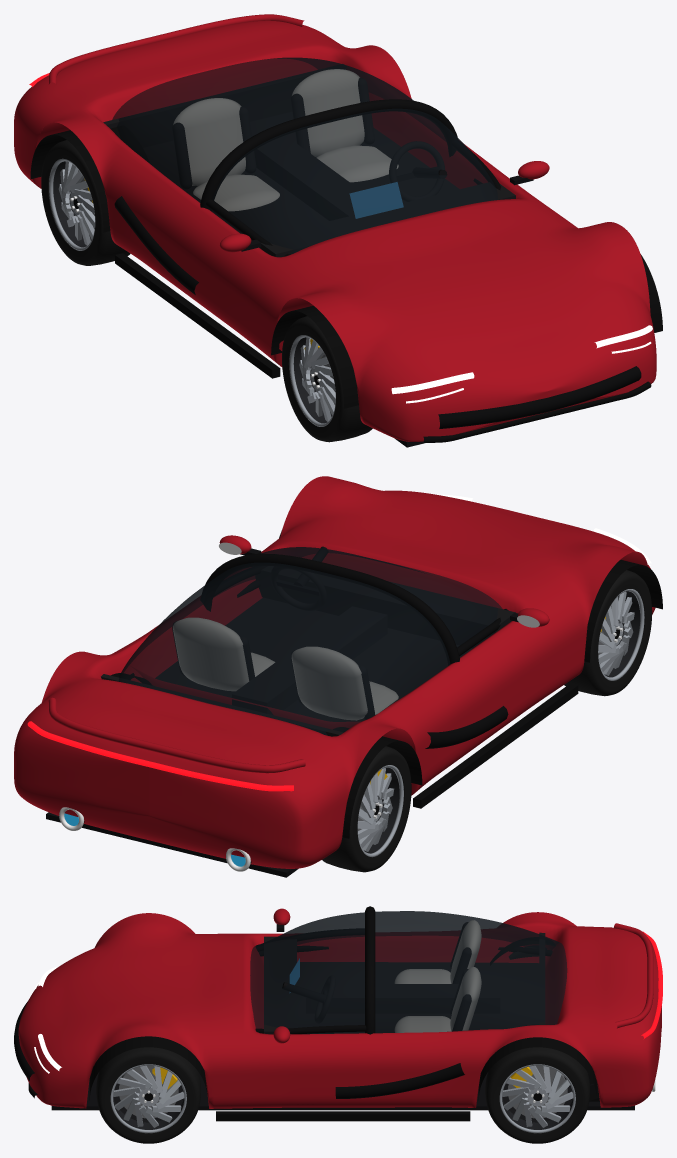
Rendered from voltra-r.glb.
The picture shows the model from 3 angles, top to bottom: view 1: azimuth 30°, elevation 25°; view 2: azimuth 150°, elevation 25°; view 3: azimuth 270°, elevation 25°; orthographic projection. The views are drawn at different scales.
Visible parts, largest first — view 1: Body, Canopy, SeatBack (×2), Tire (×2), Carpet, WheelWell (×3), Console, Dashboard, RearBulkhead, TargaHoop, SeatCushion (×2), FrontIntake (+10 smaller); view 2: Body, Canopy, Carpet, SeatBack (×2), Dashboard, Tire (×2), Console, TargaHoop, WheelWell (×2), SideSkirt, Ducktail, Taillight (+6 smaller); view 3: Body, Canopy, Tire (×2), Carpet, Console, WheelWell (×2), SideSkirt, Dashboard, Underbody, SeatBack (×2), SideScoopL, SeatCushion (×2) (+13 smaller).
Part boxes in pixels (x1,y1,x2,y2): Body: [14, 20, 656, 441]; Canopy: [112, 57, 497, 254]; SeatBack (×2): [173, 69, 364, 185]; Tire (×2): [41, 140, 372, 442]; Carpet: [143, 112, 458, 237]; WheelWell (×3): [30, 125, 662, 408]; Console: [251, 122, 360, 220]; Dashboard: [259, 182, 515, 257]; RearBulkhead: [103, 64, 344, 147]; TargaHoop: [200, 99, 457, 211]; SeatCushion (×2): [193, 146, 398, 210]; FrontIntake: [438, 366, 641, 428]; Body: [14, 476, 655, 868]; Canopy: [118, 547, 502, 735]; Carpet: [155, 598, 471, 721]; SeatBack (×2): [173, 618, 367, 720]; Dashboard: [256, 566, 515, 648]; Tire (×2): [322, 570, 652, 872]; Console: [232, 606, 387, 714]; TargaHoop: [203, 553, 459, 665]; WheelWell (×2): [333, 559, 662, 838]; SideSkirt: [413, 683, 578, 808]; Ducktail: [48, 697, 305, 773]; Taillight: [27, 721, 293, 791]; Body: [18, 912, 661, 1108]; Canopy: [250, 911, 567, 1034]; Tire (×2): [96, 1047, 589, 1143]; Carpet: [297, 962, 538, 1033]; Console: [306, 984, 499, 1013]; WheelWell (×2): [89, 1025, 596, 1100]; SideSkirt: [216, 1111, 470, 1121]; Dashboard: [264, 936, 296, 1034]; Underbody: [51, 1072, 634, 1110]; SeatBack (×2): [450, 920, 481, 1031]; SideScoopL: [335, 1063, 464, 1098]; SeatCushion (×2): [395, 969, 450, 1032].
Size of the model in its own units: 2.05 by 1.14 by 4.34.
